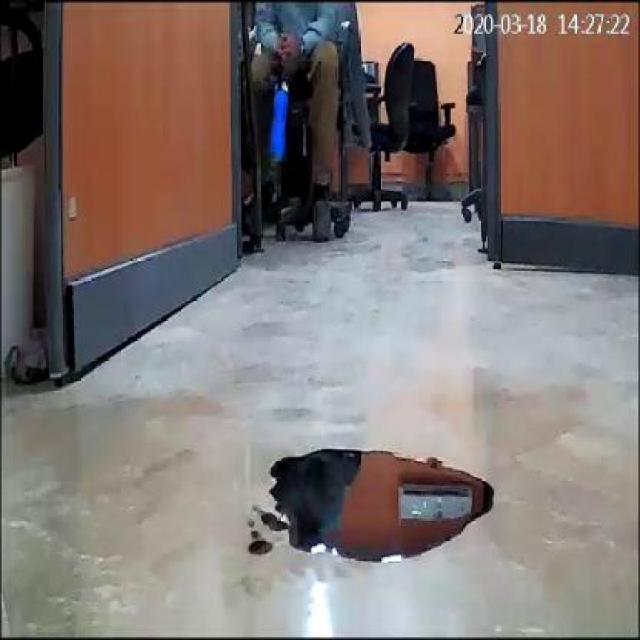spill: (263, 438, 492, 566)
